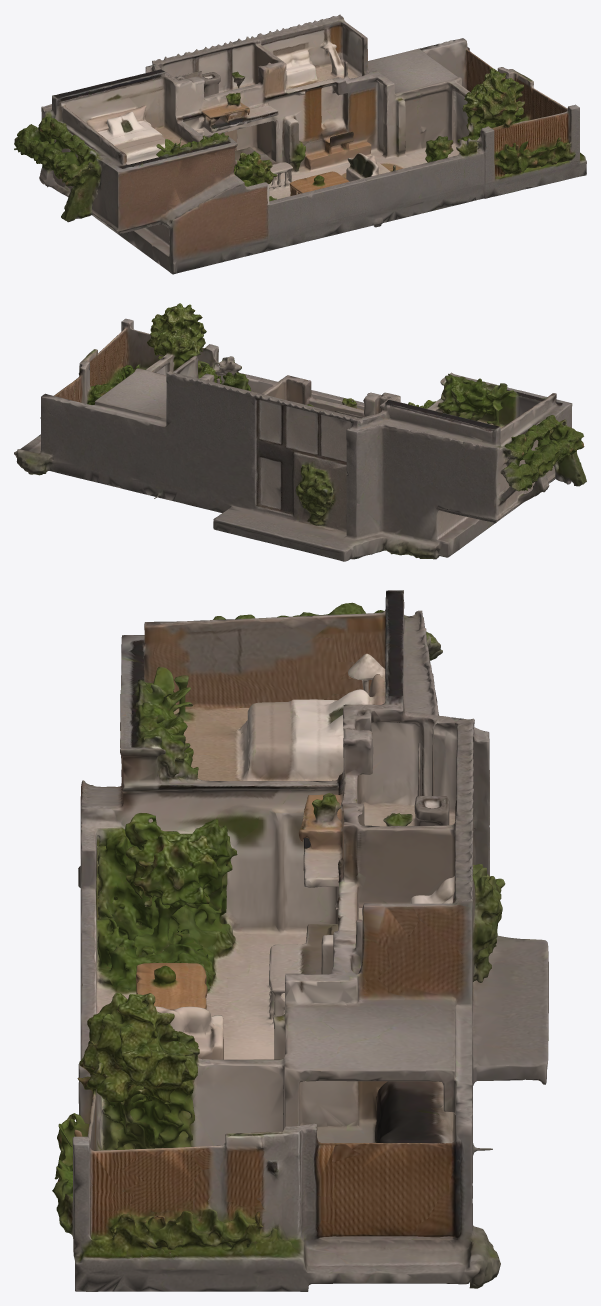
File: garden-villa.glb
3 views of the same model, one above another, from view 1: azimuth 30°, elevation 25°; view 2: azimuth 150°, elevation 25°; view 3: azimuth 270°, elevation 25° (orthographic). The views are drawn at different scales.
Bounding box in the file's own units: 1.9 × 0.5005 × 0.8292.
1 material, 1 textured.
